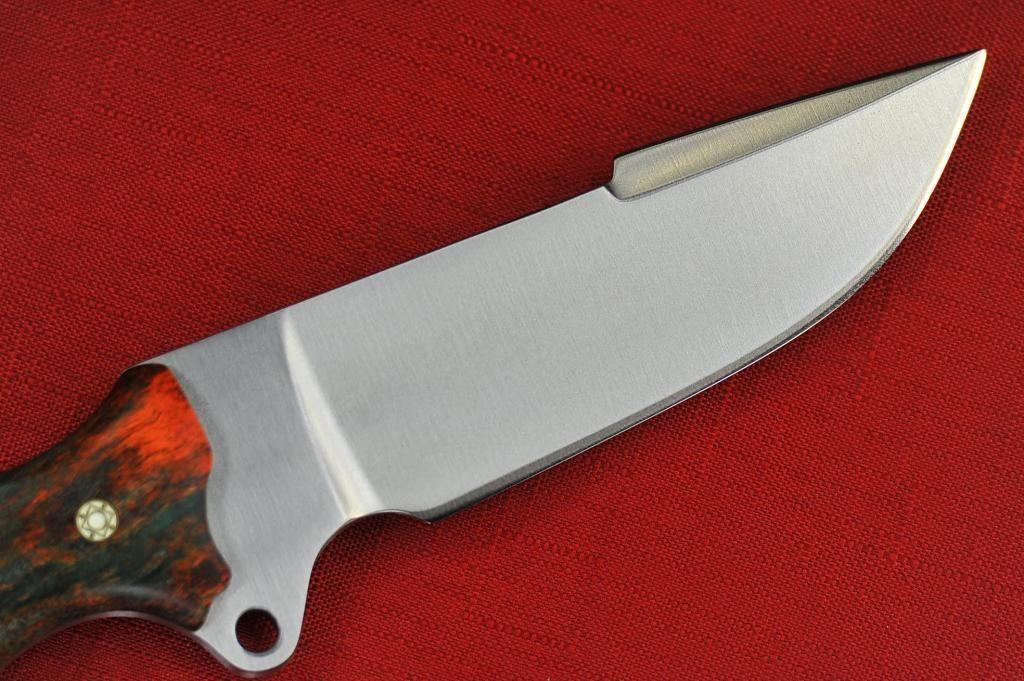Knife: (0, 44, 984, 680)
